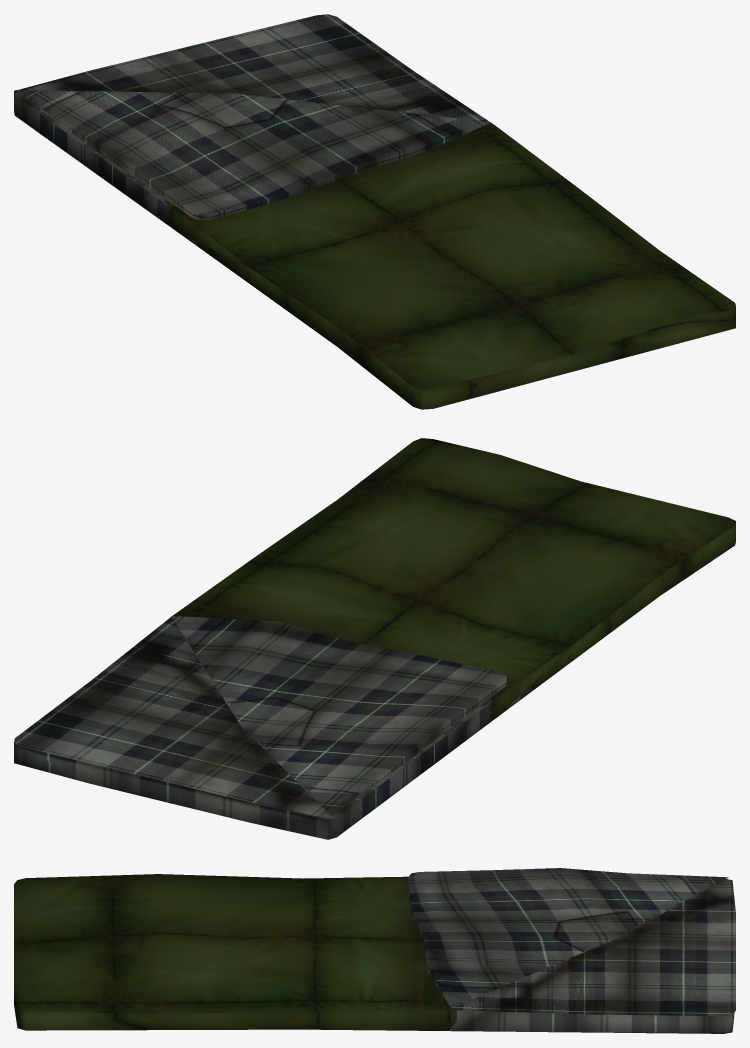
Rendered from sleeping_badLP2.fbx.
3 renders of one model, top to bottom at view 1: azimuth 30°, elevation 25°; view 2: azimuth 150°, elevation 25°; view 3: azimuth 270°, elevation 25°, orthographic. The views are drawn at different scales.
Visible parts, largest first — view 1: Cube; view 2: Cube; view 3: Cube.
Boxes of the visible parts, <box> form: Cube: <box>14,14,735,409</box>; Cube: <box>14,438,735,839</box>; Cube: <box>14,868,735,1033</box>.
Bounding box in the file's own units: 86.5 × 10.09 × 191.
